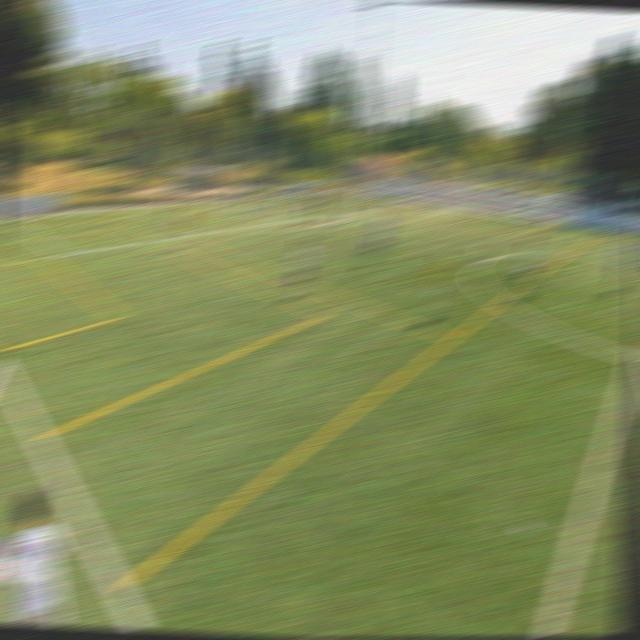bigarea_bottom_inner: (53, 245, 75, 267)
bigarea_bottom_outter: (0, 213, 20, 224)
bigarea_top_inner: (390, 204, 408, 209)
bottom_arc_area_intersection: (224, 222, 246, 235)
corner: (326, 192, 342, 194)
halfcircle_bottom: (618, 335, 640, 378)
smallarea_bottom_inner: (144, 212, 162, 219)
smallarea_bottom_outter: (124, 206, 142, 213)
smallarea_top_inner: (277, 198, 295, 206)
top_arc_area_intersection: (329, 211, 348, 220)
